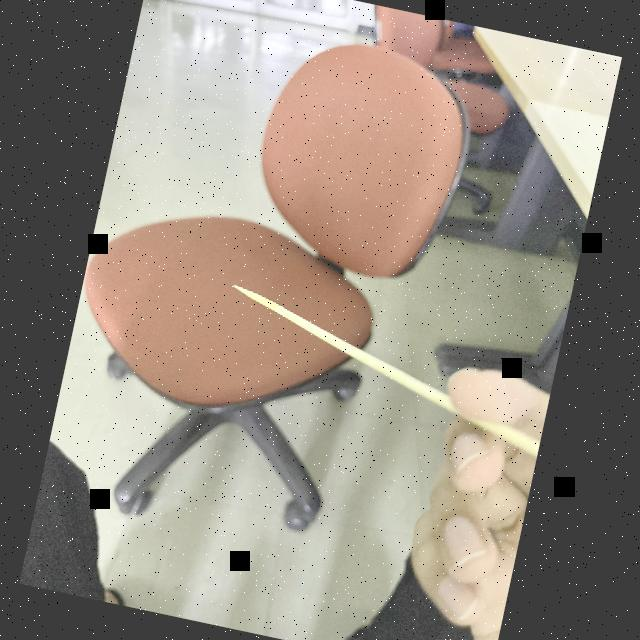stick: (210, 278, 556, 458)
